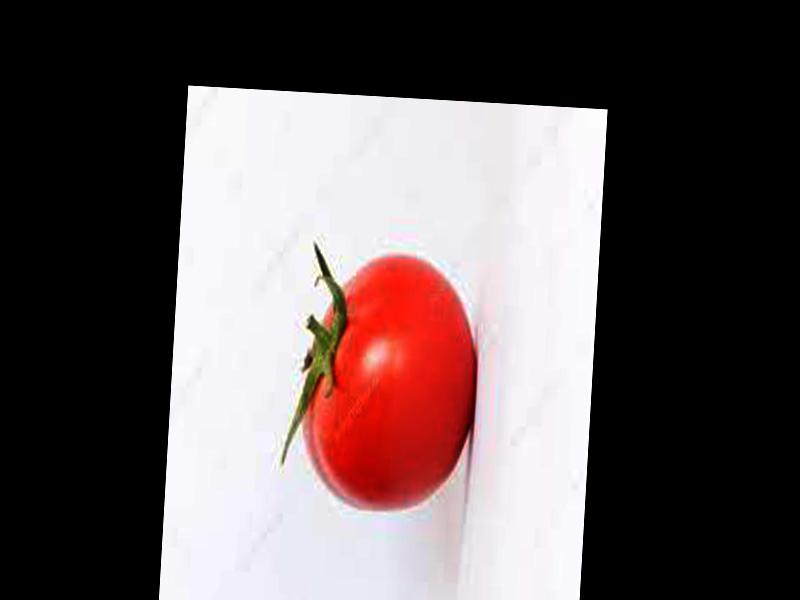Tomato: (300, 251, 483, 519)
